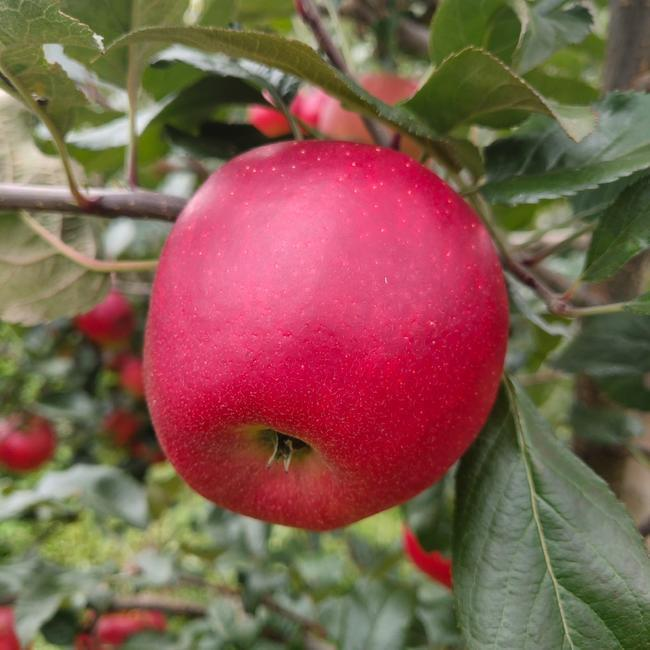apple: (143, 148, 514, 534)
